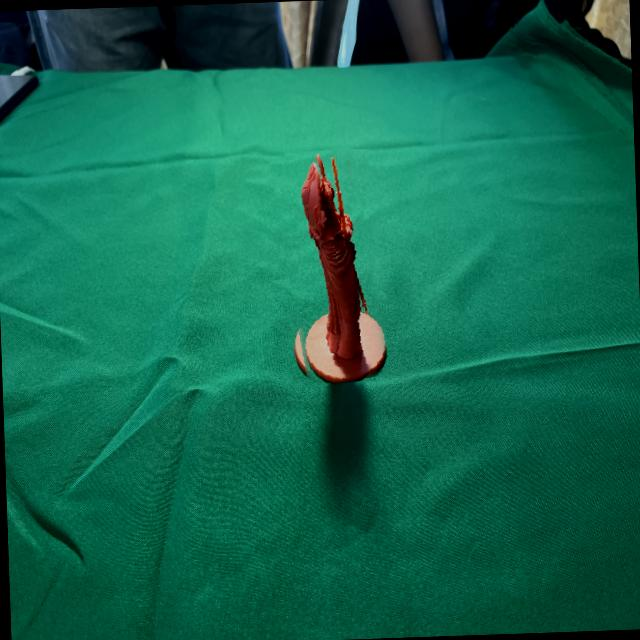amon: (276, 146, 384, 386)
